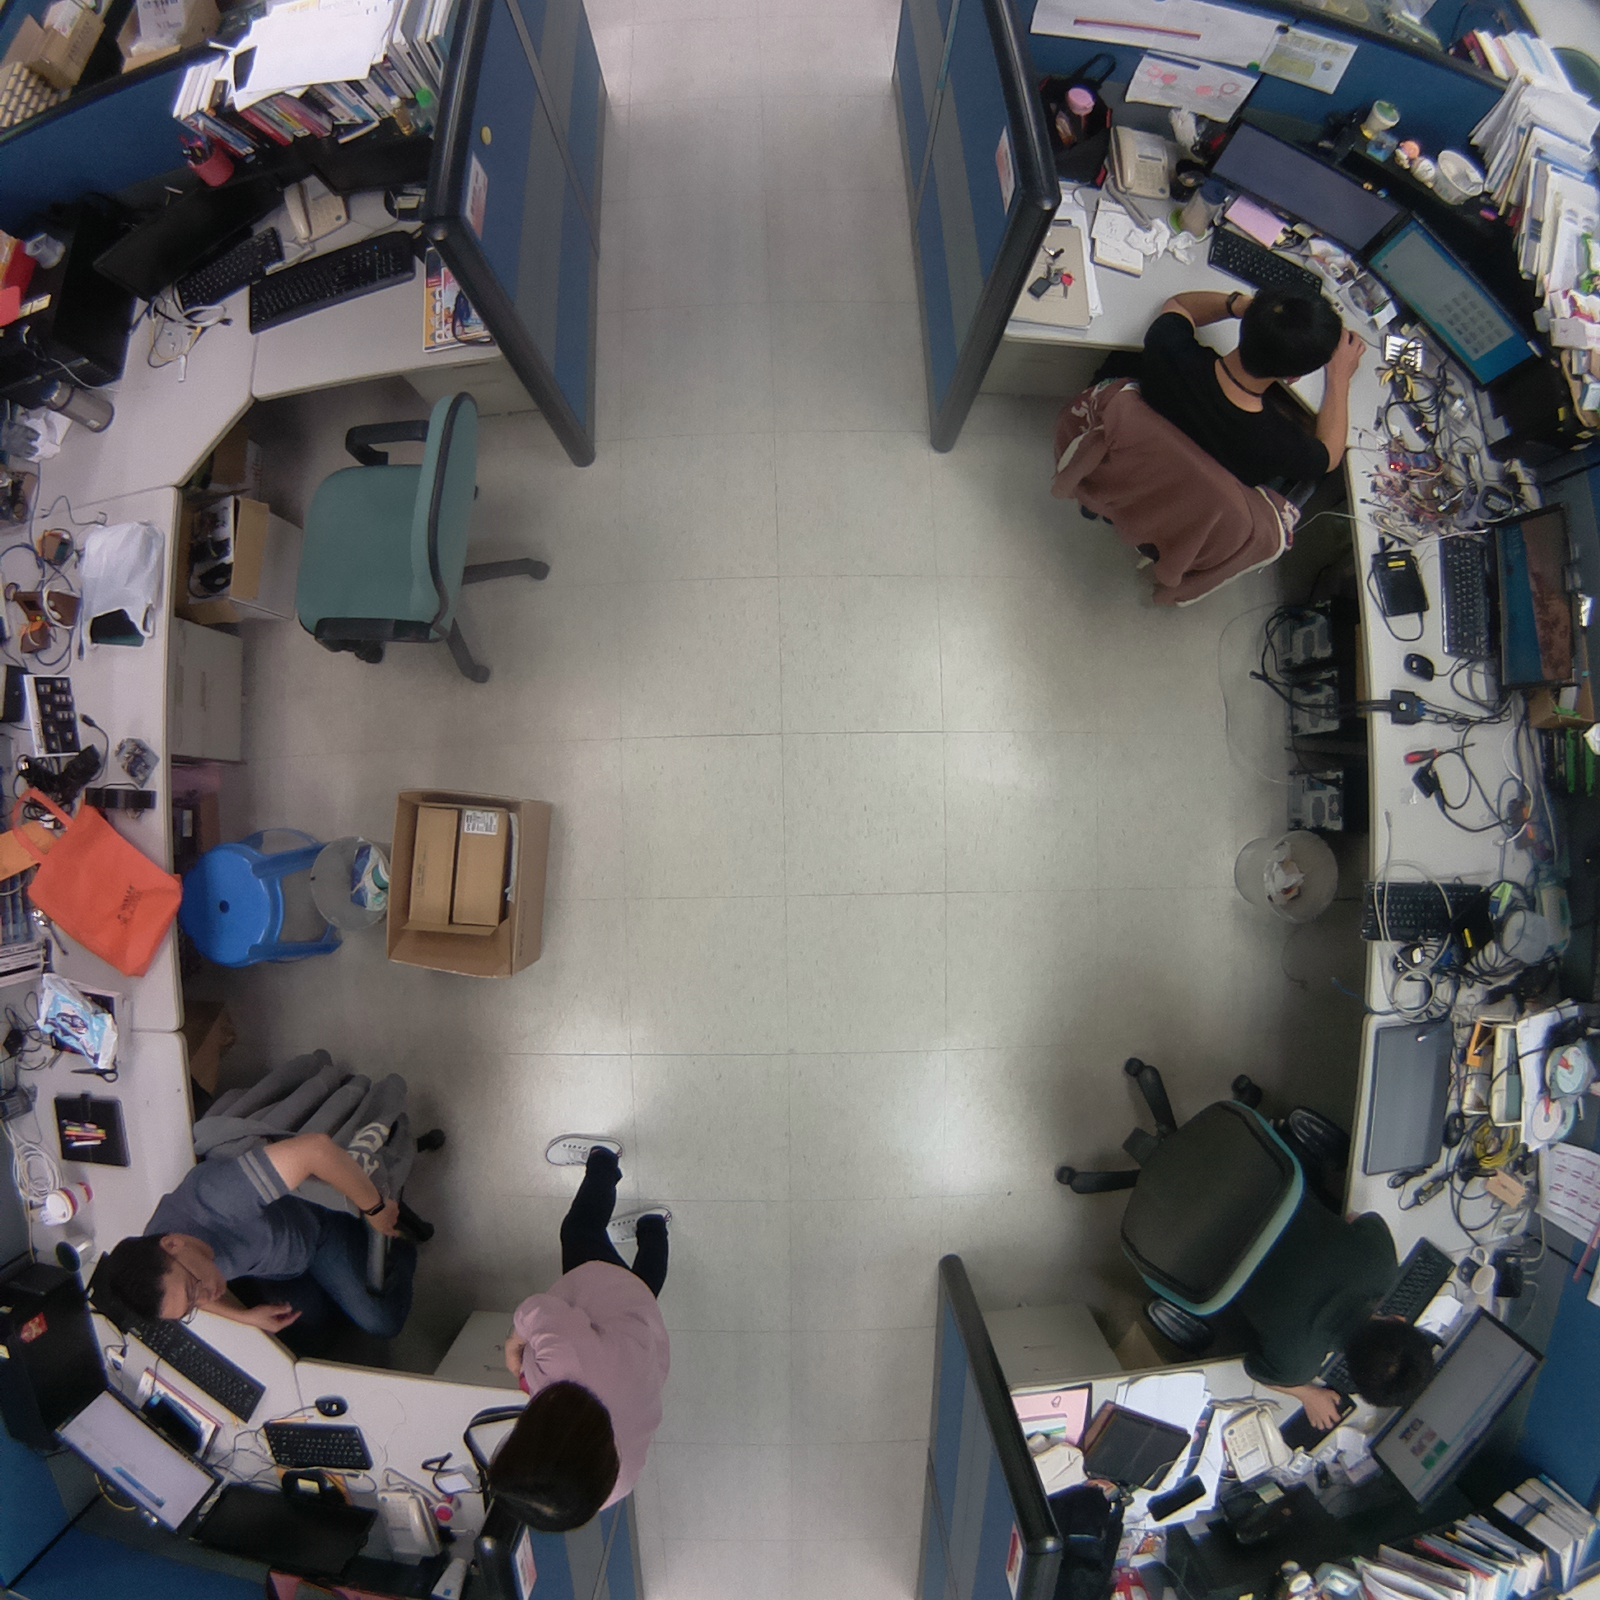chair: (278, 368, 581, 699)
head: (478, 1369, 631, 1543), (92, 1225, 229, 1341), (1233, 271, 1350, 386), (1333, 1308, 1448, 1416)
sitting: (1037, 1027, 1450, 1429), (73, 1027, 473, 1365), (1035, 240, 1373, 622)
standing: (471, 1120, 700, 1543)
